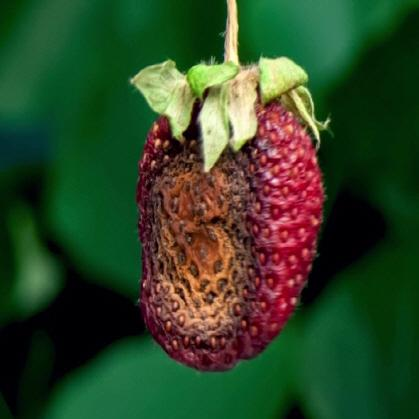Anthracnose Fruit Rot: (137, 100, 293, 368)
